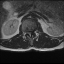CCS_normal: (29, 30, 31, 38)
LFS_severe_stenosis: (32, 29, 34, 35)
LLS_severe_stenosis: (31, 29, 32, 35)
RFS_normal: (25, 29, 27, 35)
RLS_normal: (27, 30, 29, 36)
